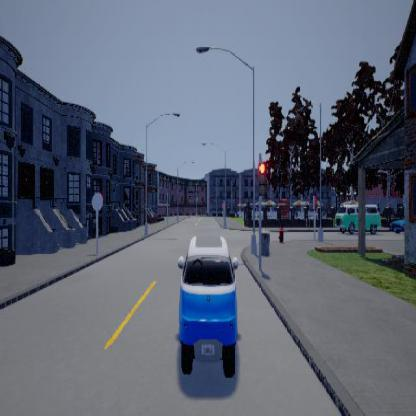traffic_light_red: (258, 155, 264, 202)
vehicle: (177, 234, 238, 377), (334, 200, 380, 234)
